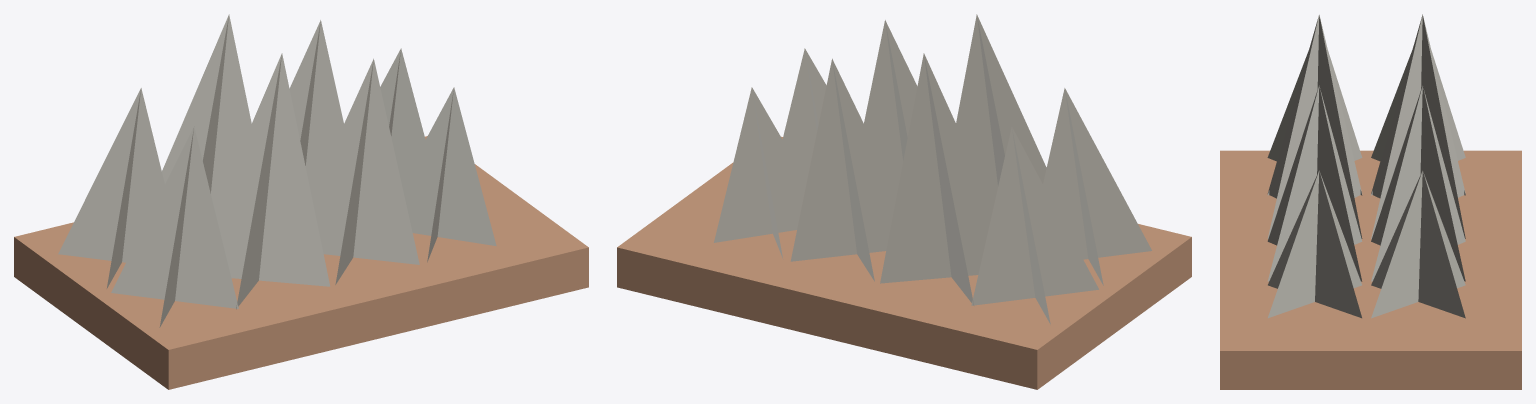
File: opera_house.glb
The picture shows the model from 3 angles, left to right: view 1: azimuth 30°, elevation 25°; view 2: azimuth 150°, elevation 25°; view 3: azimuth 270°, elevation 25°; orthographic projection. The views are drawn at different scales.
Parts seen in each view (by area): view 1: opera_house; view 2: opera_house; view 3: opera_house.
Part boxes in pixels (x1=…): opera_house: x1=14, y1=14, x2=588, y2=389; opera_house: x1=617, y1=14, x2=1191, y2=389; opera_house: x1=1220, y1=14, x2=1521, y2=389.
Bounding box in the file's own units: 1.1 × 0.65 × 0.7.
